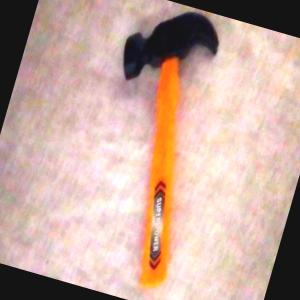martelo: (60, 0, 238, 292)
